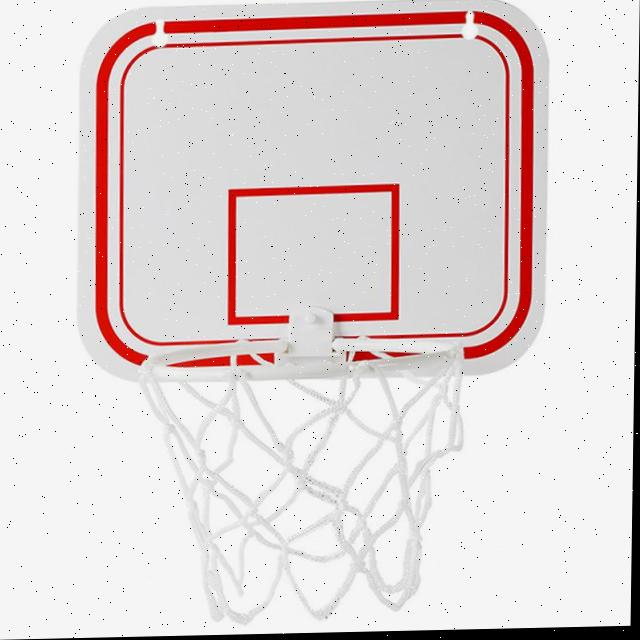hoop: (134, 335, 467, 627)
